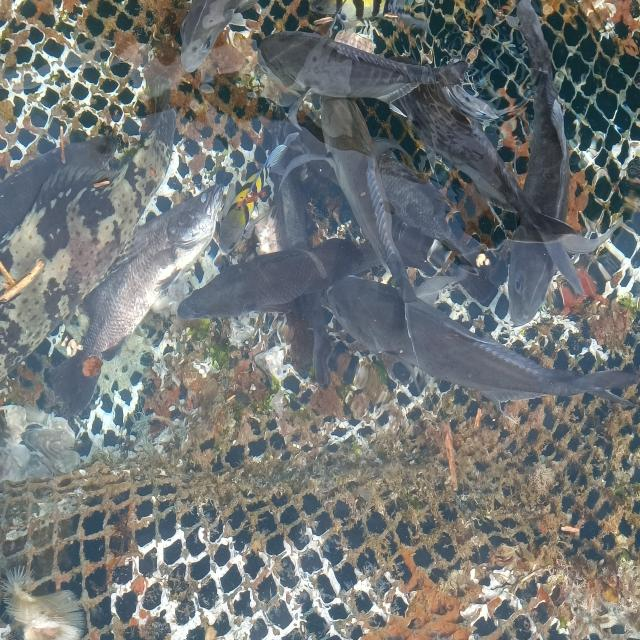ikan: (318, 266, 592, 412), (242, 24, 448, 114)
